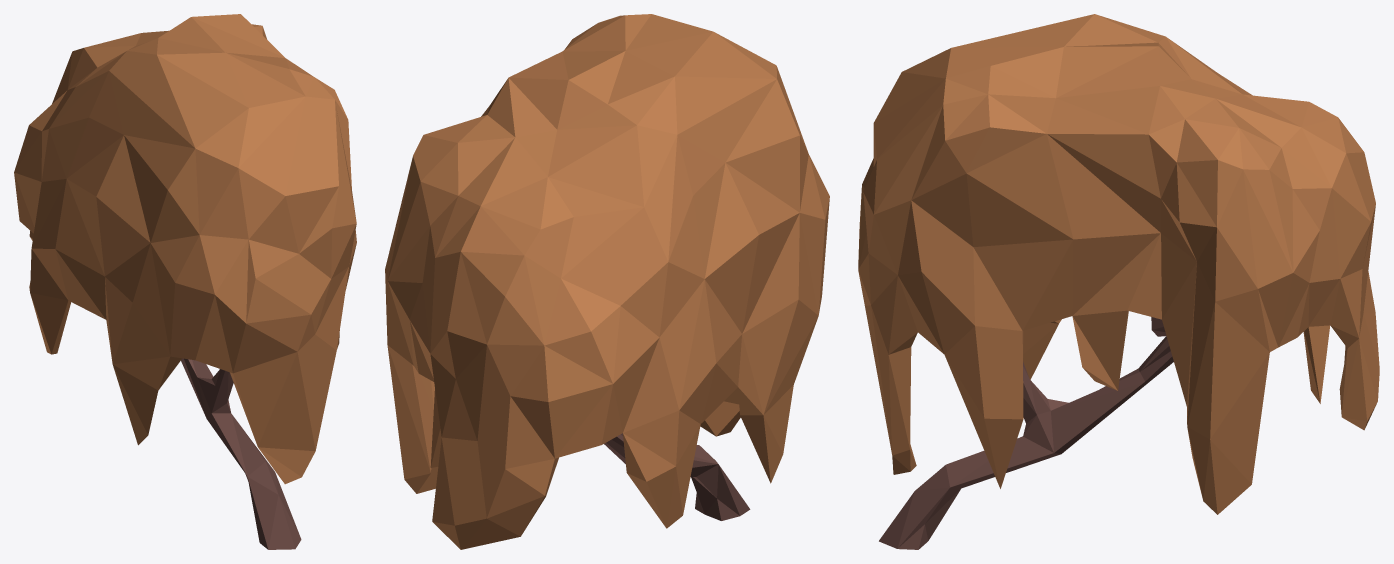
Rendered from Willow_Autumn_2.lod2.glb.
The picture shows the model from 3 angles, left to right: view 1: azimuth 30°, elevation 25°; view 2: azimuth 150°, elevation 25°; view 3: azimuth 270°, elevation 25°; orthographic projection. The views are drawn at different scales.
Parts seen in each view (by area): view 1: Willow_Autumn_2; view 2: Willow_Autumn_2; view 3: Willow_Autumn_2.
Part boxes in pixels (x1,y1,x2,y2): Willow_Autumn_2: (14, 14, 356, 549); Willow_Autumn_2: (385, 14, 829, 549); Willow_Autumn_2: (858, 14, 1379, 549).
Bounding box in the file's own units: 1.94 × 3.31 × 3.1.
